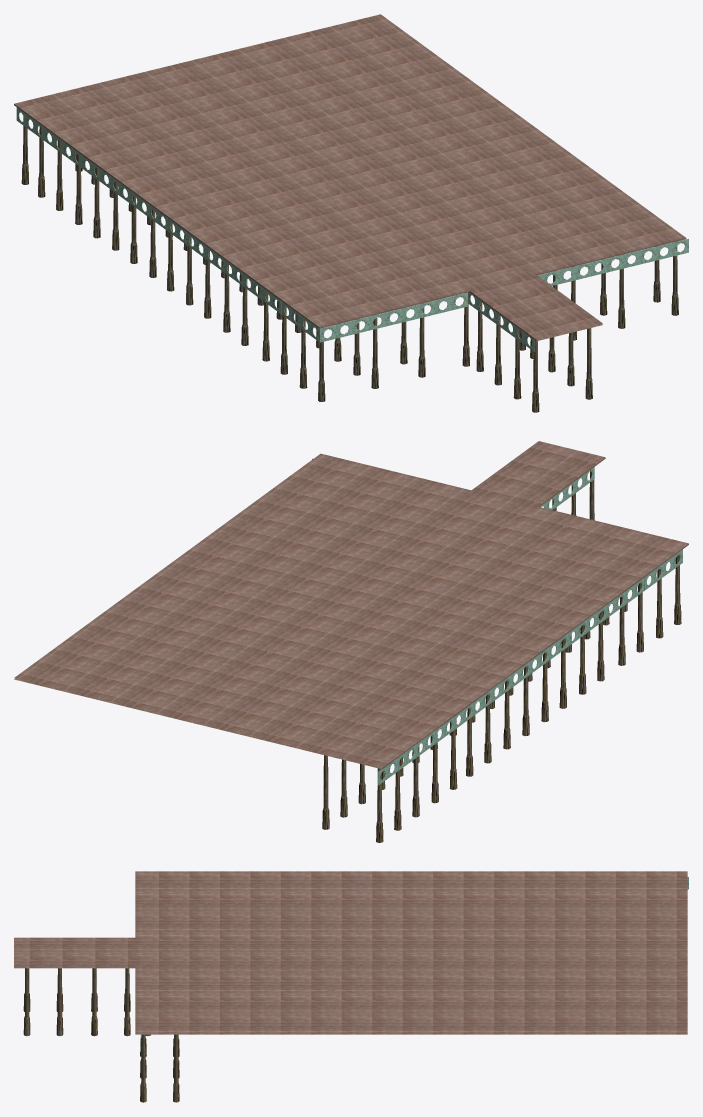
File: Pier (2).FBX
The picture shows the model from 3 angles, top to bottom: view 1: azimuth 30°, elevation 25°; view 2: azimuth 150°, elevation 25°; view 3: azimuth 270°, elevation 25°; orthographic projection. The views are drawn at different scales.
Visible parts, largest first — view 1: Box001; view 2: Box001; view 3: Box001.
Part boxes in pixels (x1,y1,x2,y2): Box001: (14,14,688,412); Box001: (14,441,688,842); Box001: (14,871,688,1102).
Size of the model in its own units: 83.77 by 16.81 by 145.
Materials: 3 (3 with a texture image).
